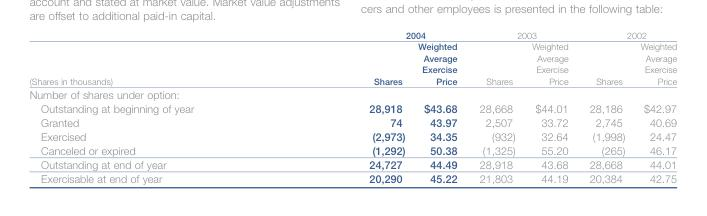table: (28, 29, 676, 184)
table column: (28, 29, 280, 184), (280, 29, 409, 184), (409, 29, 467, 184), (521, 29, 578, 184), (467, 29, 521, 184), (578, 29, 630, 184), (630, 29, 676, 184)
table column header: (28, 29, 676, 86)
table projected row header: (28, 86, 676, 100)
table row: (28, 40, 676, 86), (28, 114, 676, 129), (28, 86, 676, 100), (28, 100, 676, 114), (28, 129, 676, 143), (28, 143, 676, 157), (28, 157, 676, 171), (28, 171, 676, 184), (28, 29, 676, 40)
table spanning cell: (28, 29, 280, 86), (280, 29, 467, 40), (467, 29, 578, 40), (578, 29, 676, 40)
